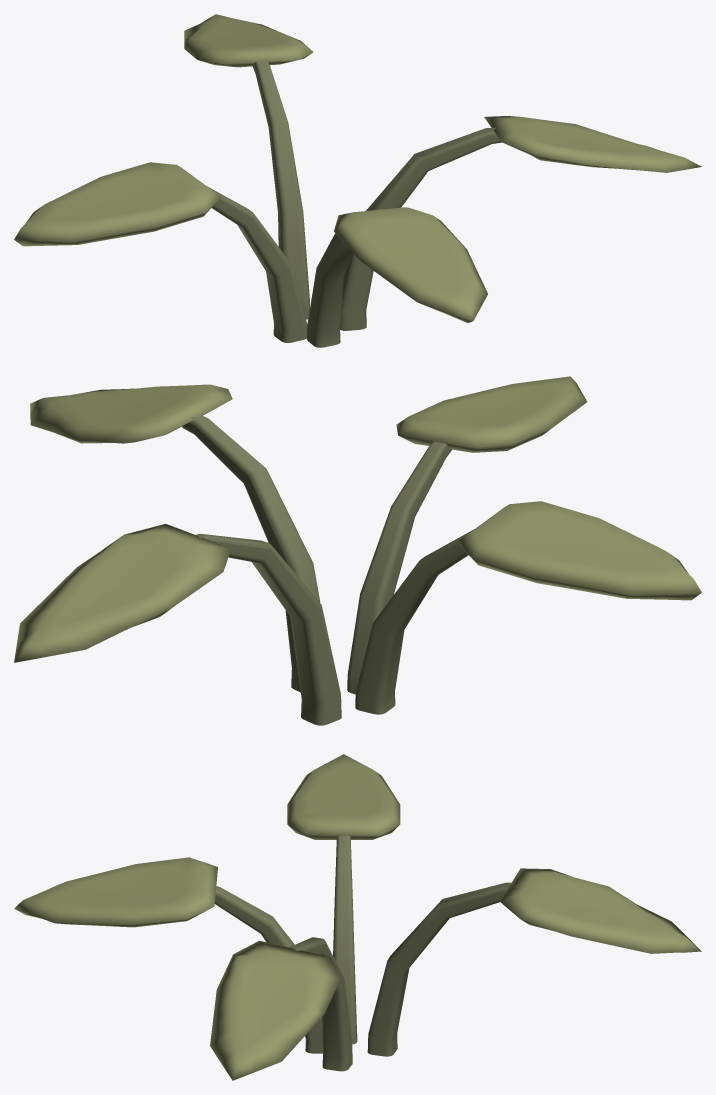
3 renders of one model, top to bottom at view 1: azimuth 30°, elevation 25°; view 2: azimuth 150°, elevation 25°; view 3: azimuth 270°, elevation 25°, orthographic. The views are drawn at different scales.
Parts seen in each view (by area): view 1: Root; view 2: Root; view 3: Root.
Part boxes in pixels (x1,y1,x2,y2): Root: (14,14,701,347); Root: (14,376,701,725); Root: (14,754,701,1080).
Size of the model in its own units: 0.1572 by 0.0475 by 0.1597.
